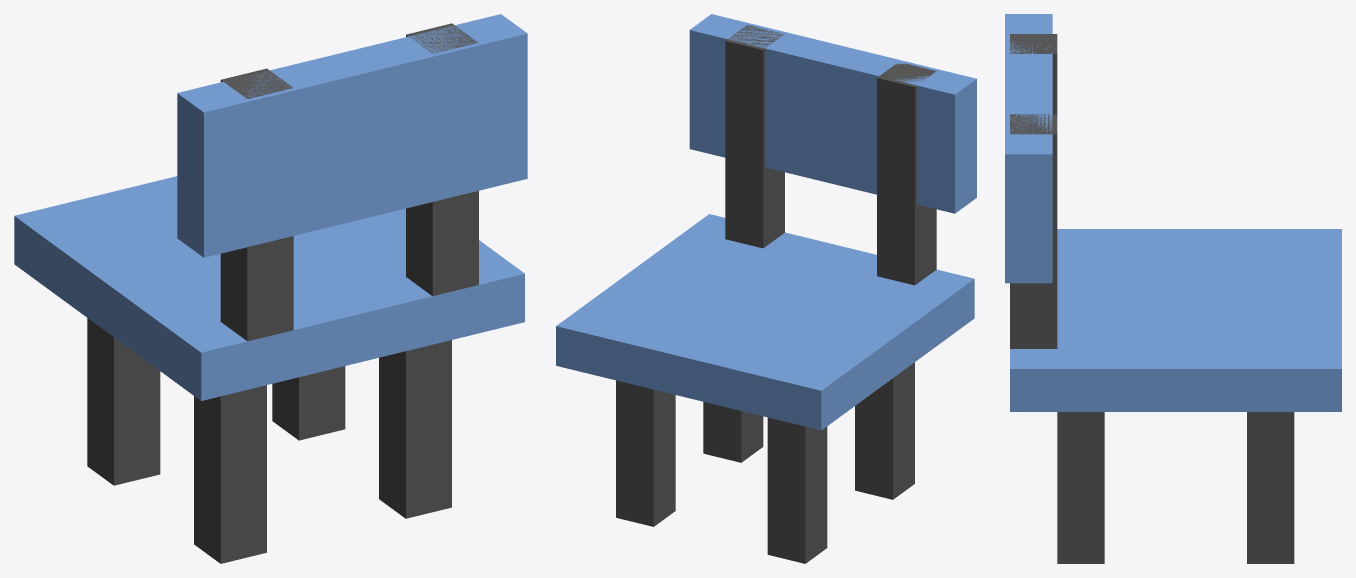
Rendered from chair.fbx.
The picture shows the model from 3 angles, left to right: view 1: azimuth 30°, elevation 25°; view 2: azimuth 150°, elevation 25°; view 3: azimuth 270°, elevation 25°; orthographic projection. The views are drawn at different scales.
Visible parts, largest first — view 1: Cube; view 2: Cube; view 3: Cube.
Part boxes in pixels (bbox=[...]): Cube: bbox=[14, 14, 527, 563]; Cube: bbox=[556, 14, 976, 563]; Cube: bbox=[1005, 14, 1341, 563].
Size of the model in its own units: 105 by 150 by 106.
